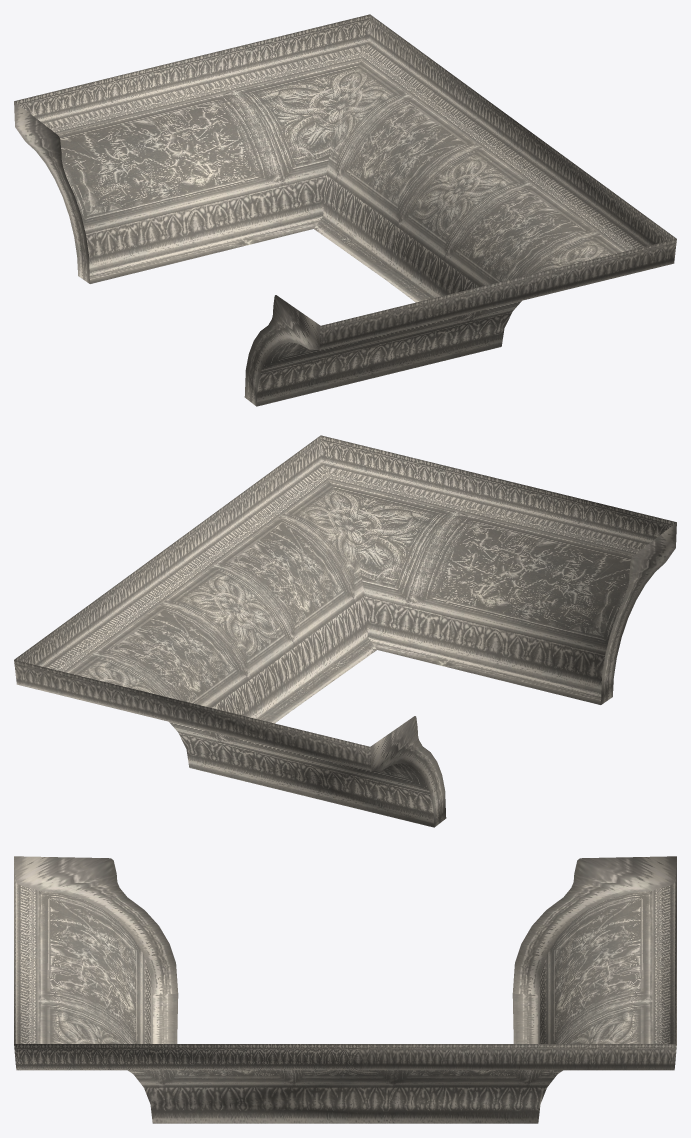
File: CeilingCurved_ShortTransition2.fbx
3 views of the same model, one above another, from view 1: azimuth 30°, elevation 25°; view 2: azimuth 150°, elevation 25°; view 3: azimuth 270°, elevation 25° (orthographic). The views are drawn at different scales.
Visible parts, largest first — view 1: CeilingRoundButt; view 2: CeilingRoundButt; view 3: CeilingRoundButt.
Part boxes in pixels (bbox=[...]): CeilingRoundButt: bbox=[14, 14, 676, 406]; CeilingRoundButt: bbox=[14, 435, 676, 827]; CeilingRoundButt: bbox=[14, 856, 676, 1123].
Bounding box in the file's own units: 390 × 134 × 581.
